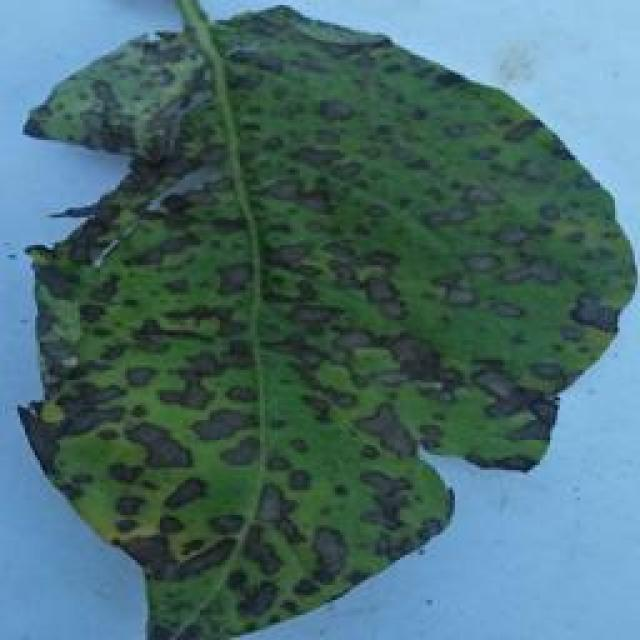Potato_Early_Blight: (5, 15, 635, 640)
